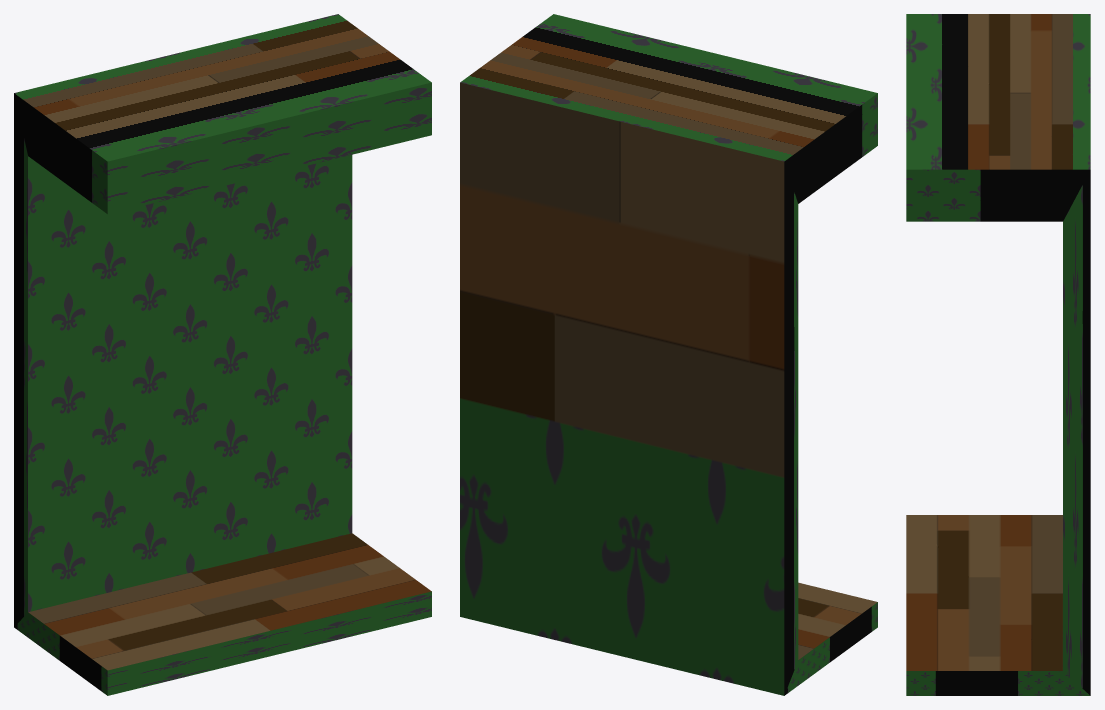
Rendered from SM_Hall_2M (1).fbx.
3 views of the same model, side by side, from view 1: azimuth 30°, elevation 25°; view 2: azimuth 150°, elevation 25°; view 3: azimuth 270°, elevation 25° (orthographic).
Parts seen in each view (by area): view 1: SM_Hall_2M; view 2: SM_Hall_2M; view 3: SM_Hall_2M.
Boxes of the visible parts, x1=… form: SM_Hall_2M: x1=14, y1=14, x2=431, y2=695; SM_Hall_2M: x1=460, y1=14, x2=877, y2=695; SM_Hall_2M: x1=906, y1=14, x2=1090, y2=695.
Bounding box in the file's own units: 200 × 315 × 100.
